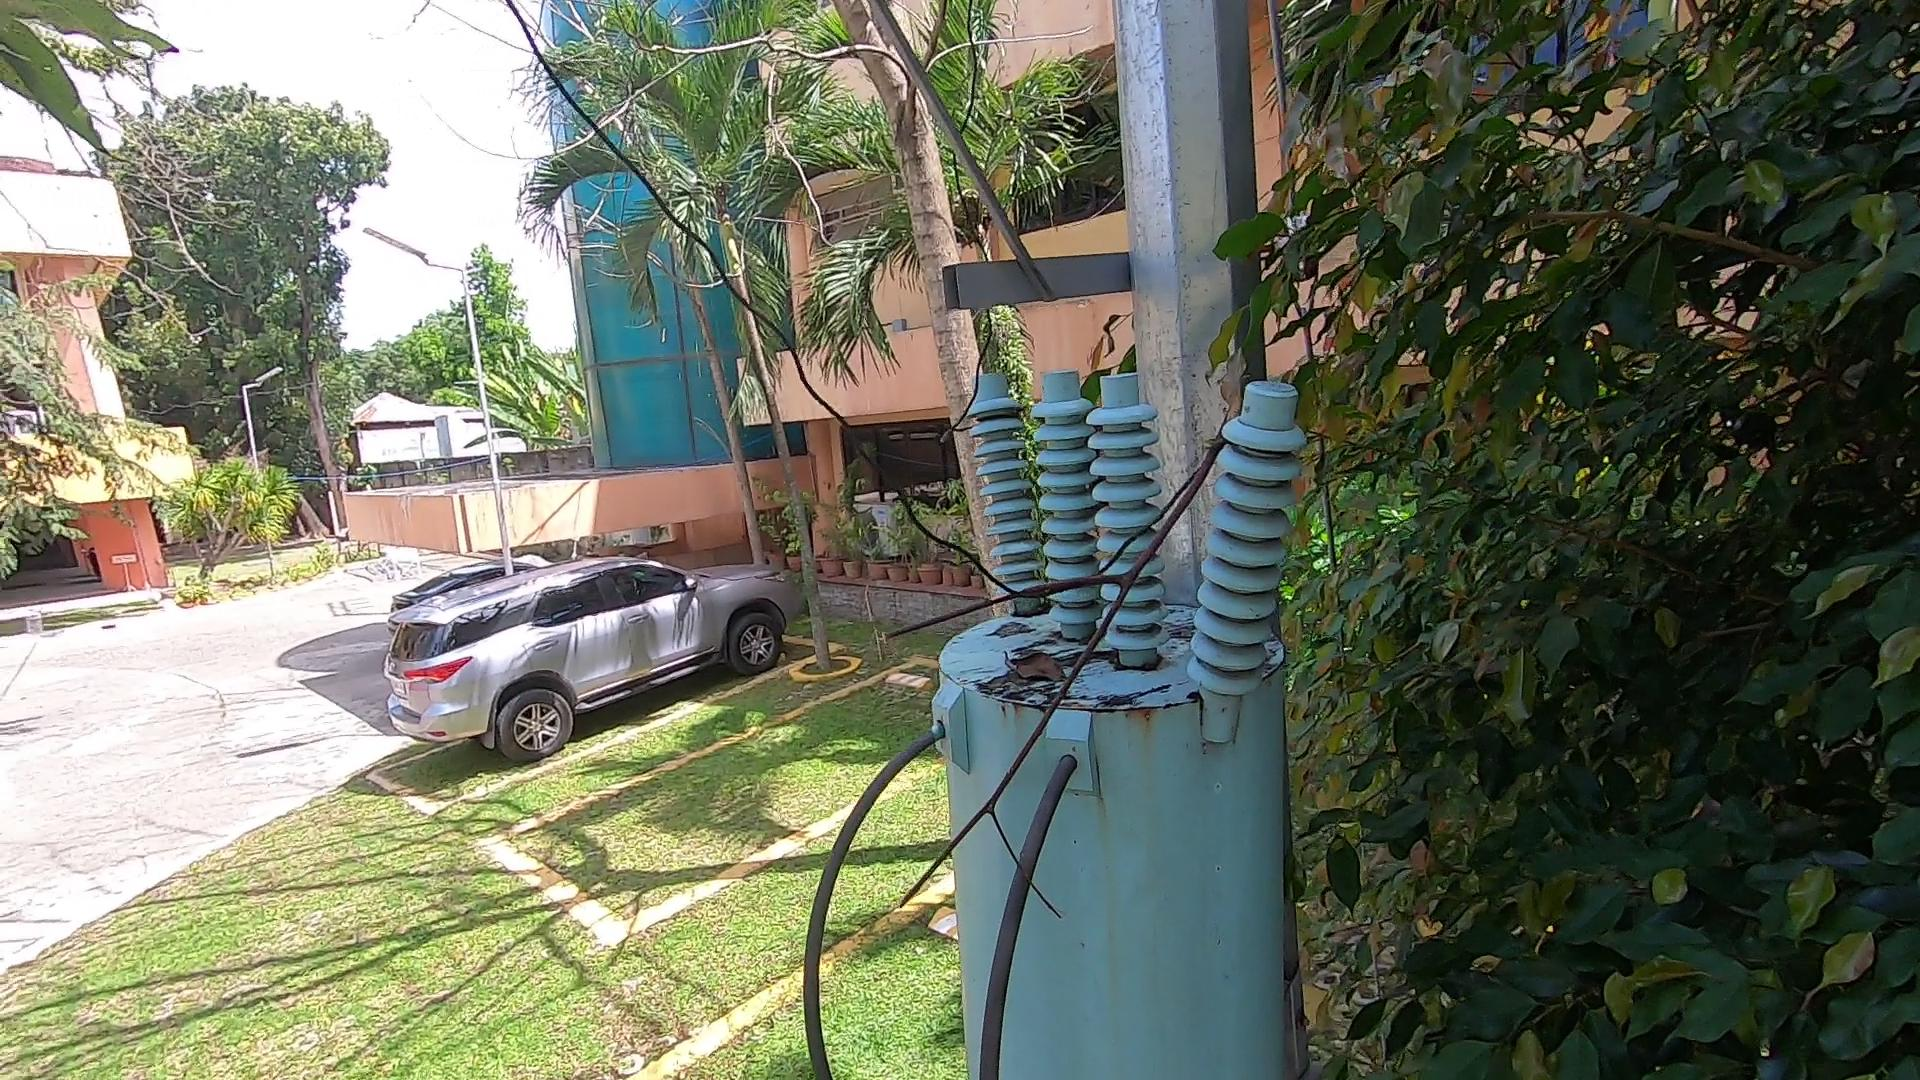leaf: (971, 632, 1077, 694)
tree branch: (865, 359, 1255, 927)
